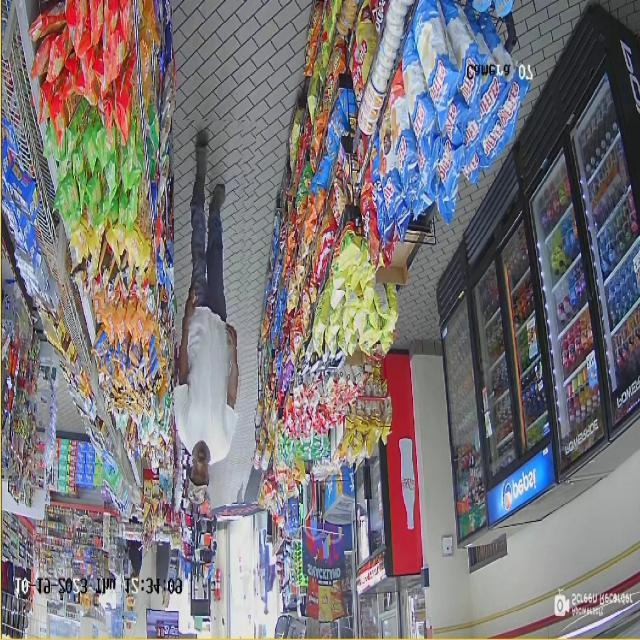Normal: (174, 120, 254, 515)
